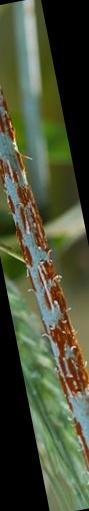Sugarcane: (0, 109, 89, 407)
